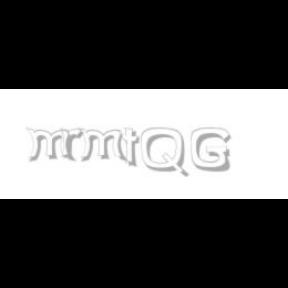G: (190, 128, 230, 172)
Q: (141, 128, 187, 178)
m: (25, 128, 77, 162), (77, 128, 129, 162)
r: (60, 128, 86, 158)
t: (122, 128, 144, 168)
